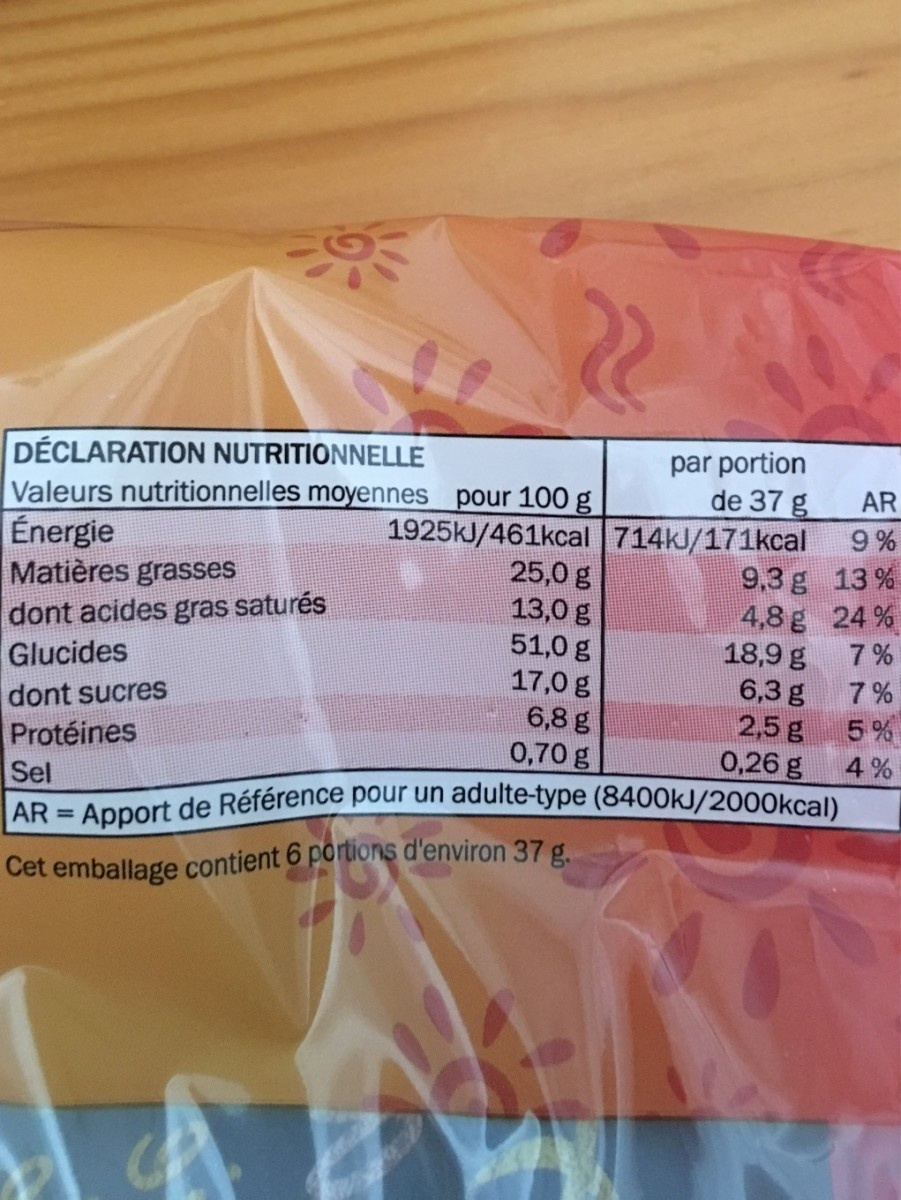column: (8, 514, 329, 786), (615, 436, 810, 782), (387, 515, 589, 769), (830, 438, 901, 784)
table: (1, 429, 901, 782)
